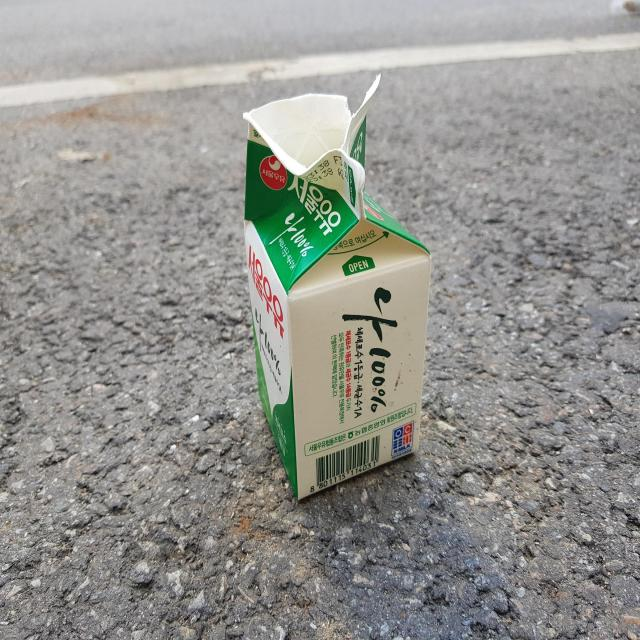paperpack: (243, 74, 431, 499)
